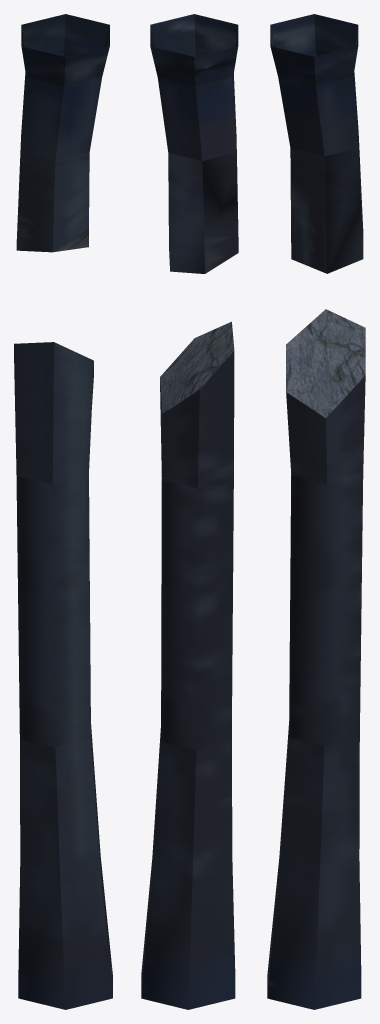
File: HuBian_NightRailing10_FBX.FBX
The picture shows the model from 3 angles, left to right: view 1: azimuth 90°, elevation 25°; view 2: azimuth 210°, elevation 25°; view 3: azimuth 270°, elevation 25°; orthographic projection.
Parts seen in each view (by area): view 1: HuBian_NightRailing10_FBX; view 2: HuBian_NightRailing10_FBX; view 3: HuBian_NightRailing10_FBX.
Part boxes in pixels (x1=…): HuBian_NightRailing10_FBX: x1=14, y1=14, x2=112, y2=1009; HuBian_NightRailing10_FBX: x1=141, y1=14, x2=238, y2=1009; HuBian_NightRailing10_FBX: x1=267, y1=14, x2=365, y2=1009.
Bounding box in the file's own units: 0.0969 × 0.9058 × 0.0851.
